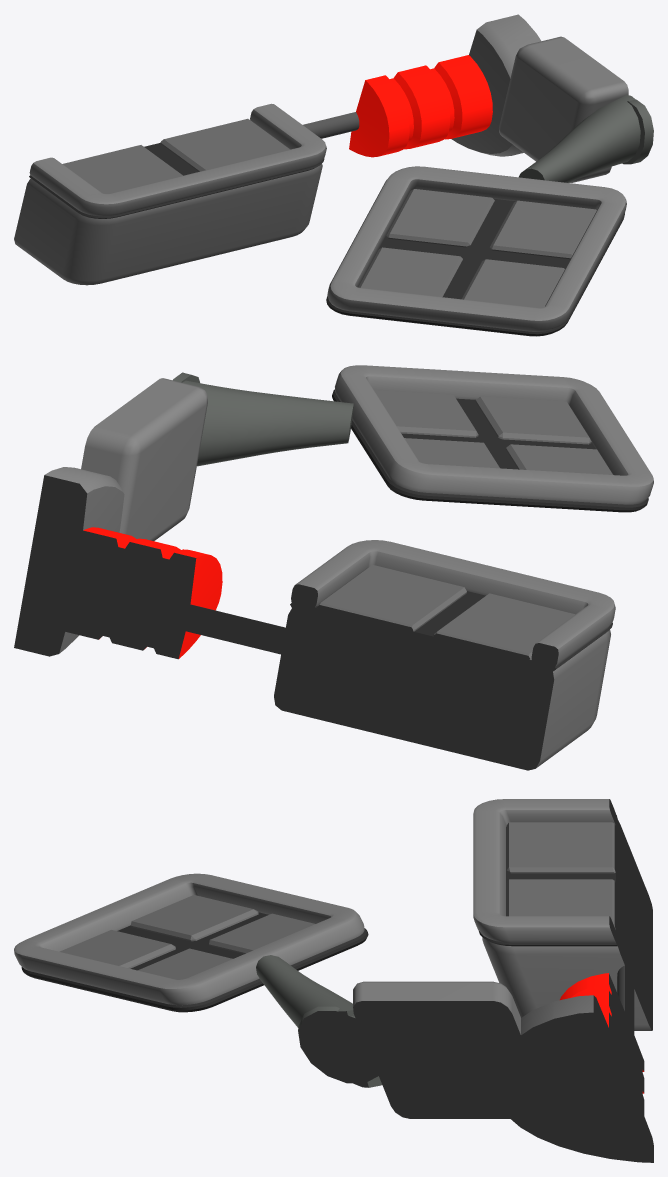
File: station_r_bl.glb
The picture shows the model from 3 angles, top to bottom: view 1: azimuth 30°, elevation 25°; view 2: azimuth 150°, elevation 25°; view 3: azimuth 270°, elevation 25°; orthographic projection. The views are drawn at different scales.
Visible parts, largest first — view 1: station_r_bl; view 2: station_r_bl; view 3: station_r_bl.
Part boxes in pixels (box(x1,y1,x2,y2)): station_r_bl: box(14, 14, 653, 336); station_r_bl: box(14, 365, 653, 770); station_r_bl: box(14, 799, 653, 1162).
Bounding box in the file's own units: 23.6 × 7 × 25.04.
